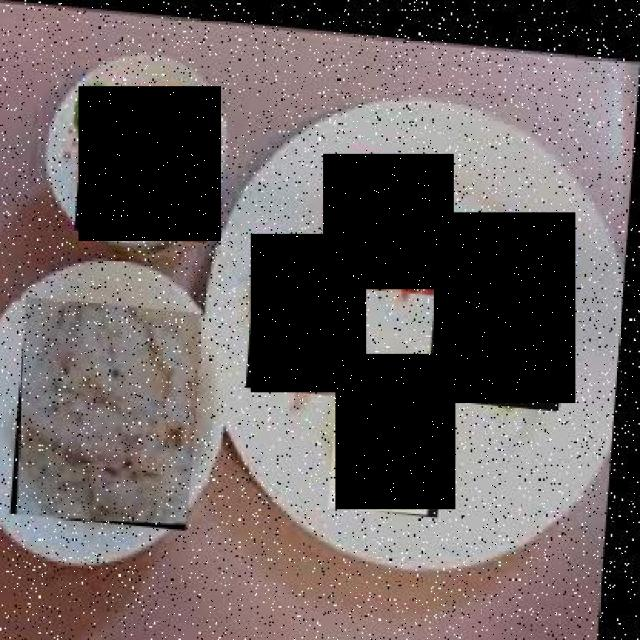Carrot: (323, 154, 454, 289)
Onion: (336, 354, 456, 509)
Onion_Leaves: (433, 212, 576, 402)
Pork: (251, 234, 366, 392)
kimchi: (78, 86, 220, 240)
